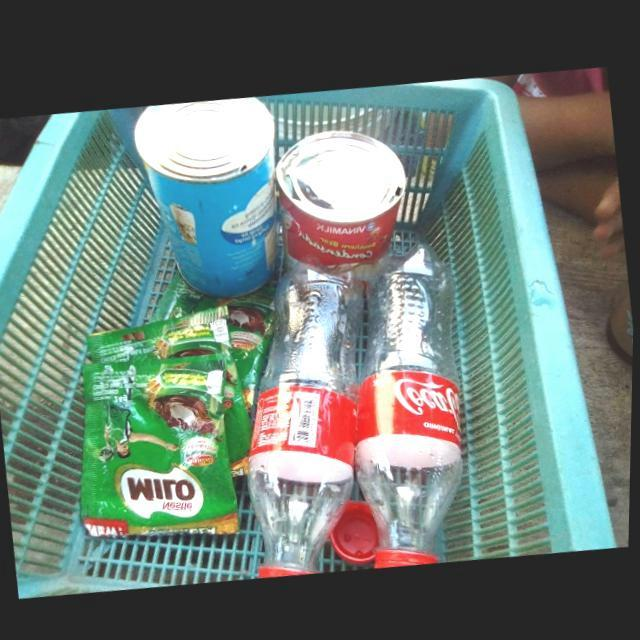aluminum: (133, 94, 279, 297), (276, 127, 406, 274)
plastic_bottle: (249, 254, 365, 575), (357, 238, 465, 564)
plastic_sachet: (82, 352, 240, 536), (86, 302, 254, 473), (151, 270, 277, 426)
